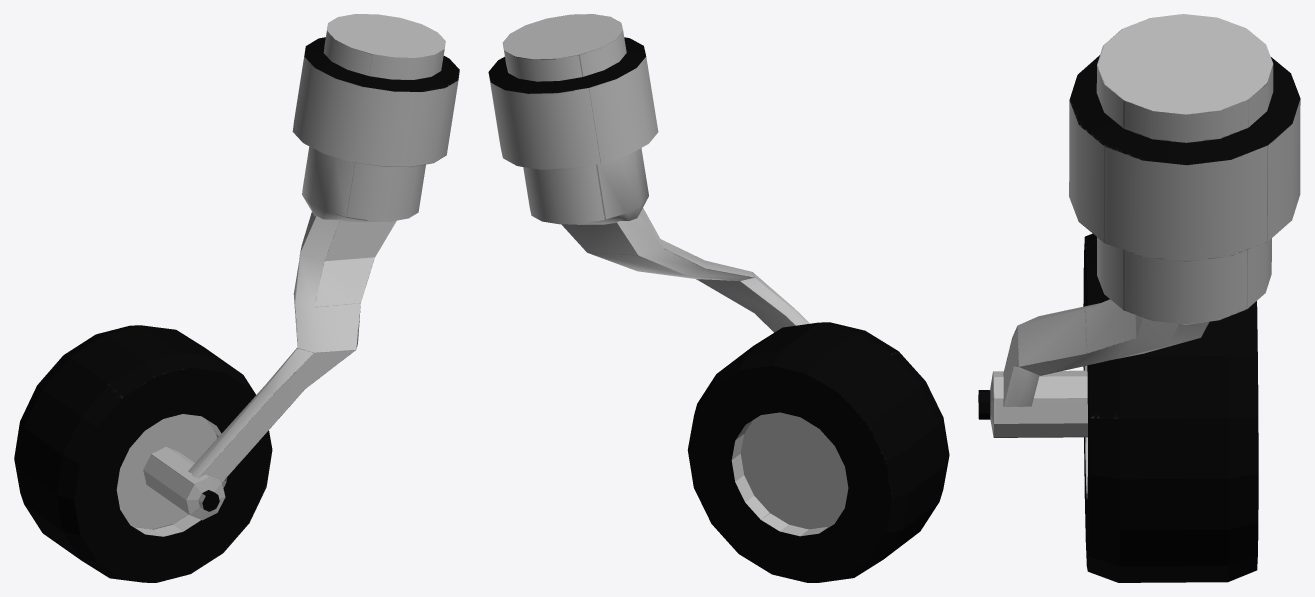
File: p51d_tgrear.FBX
The picture shows the model from 3 angles, left to right: view 1: azimuth 30°, elevation 25°; view 2: azimuth 150°, elevation 25°; view 3: azimuth 270°, elevation 25°; orthographic projection. The views are drawn at different scales.
Parts seen in each view (by area): view 1: tailWheel, gear; view 2: tailWheel, gear; view 3: gear, tailWheel.
Part boxes in pixels (bbox=[...]): tailWheel: bbox=[14, 325, 272, 582]; gear: bbox=[176, 14, 459, 486]; tailWheel: bbox=[687, 322, 949, 582]; gear: bbox=[488, 14, 809, 332]; gear: bbox=[1003, 14, 1300, 406]; tailWheel: bbox=[978, 233, 1258, 582].
Bounding box in the file's own units: 23.28 × 25.16 × 10.65.
